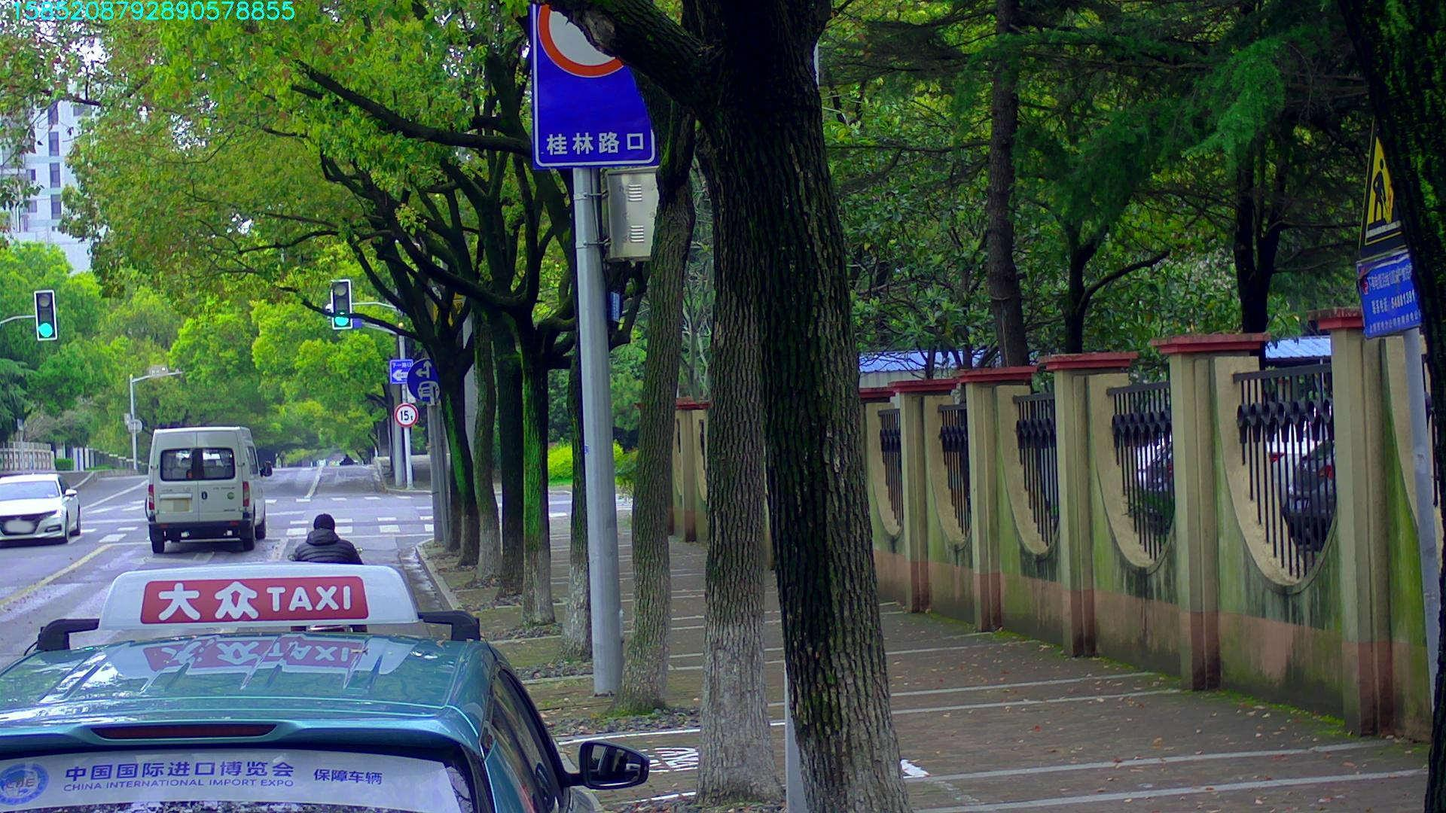green: (331, 279, 350, 328), (35, 291, 54, 339)
